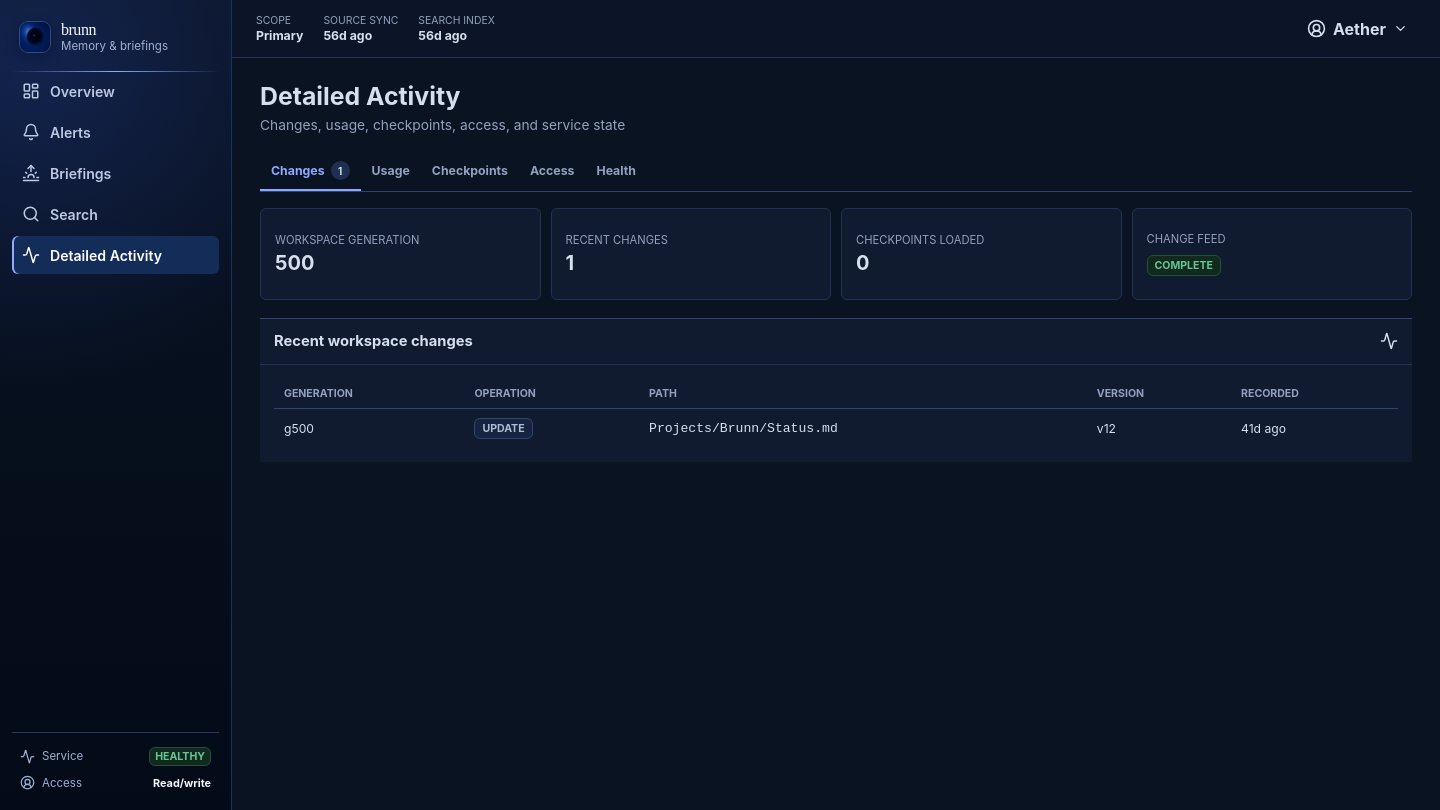
Scenario: workspace activity and access › shows recent changed paths from the monotonic workspace feed
The image size is (1440, 810).
Expected: the text "Projects/Brunn/Status.md" is shown, [649, 421, 838, 436]
Expected: the text "g500" is shown, [274, 408, 464, 448]
Click the tab "Checkpoints".
click(470, 172)  # box [421, 153, 519, 191]
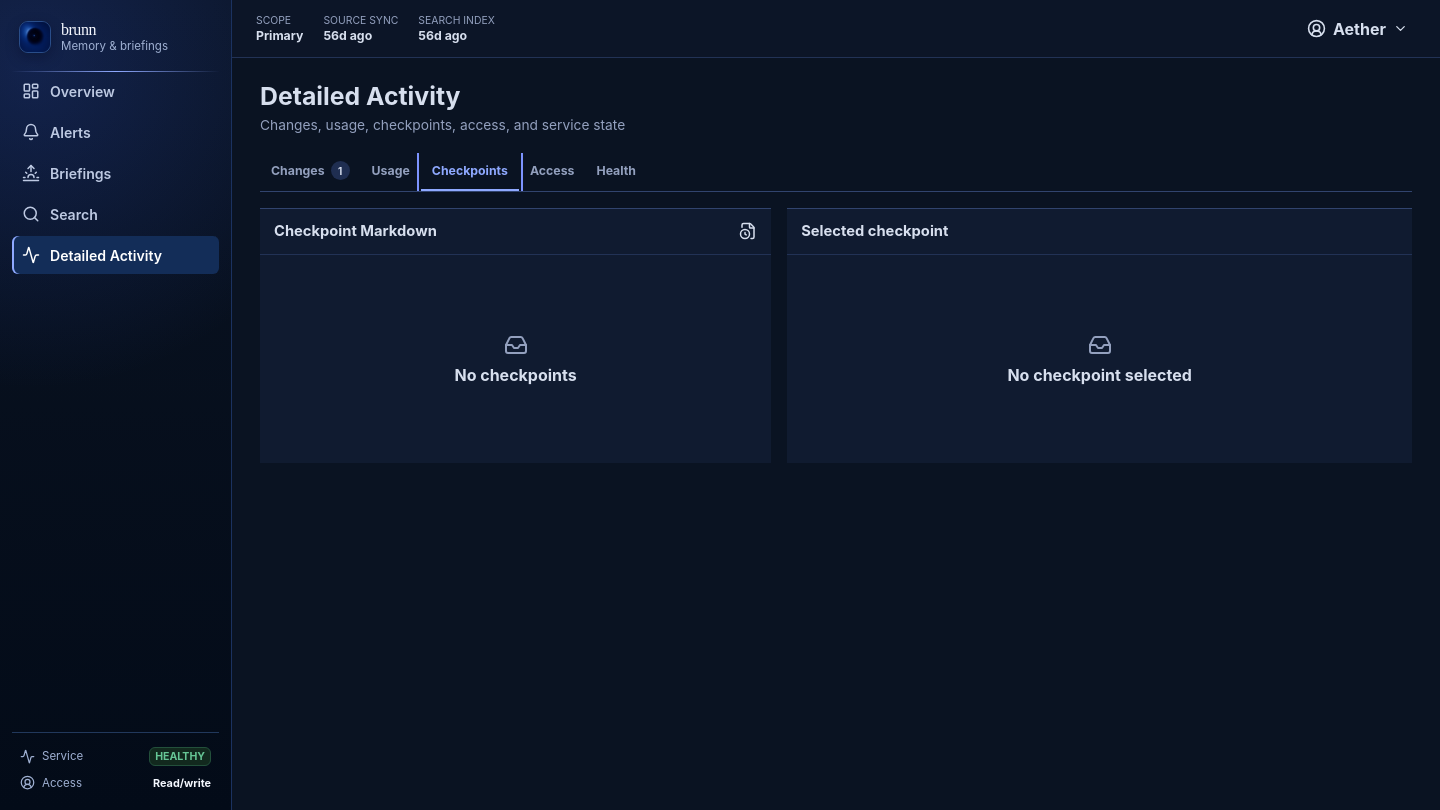
Expected: the text "No checkpoint selected" is shown, [1007, 365, 1192, 385]
